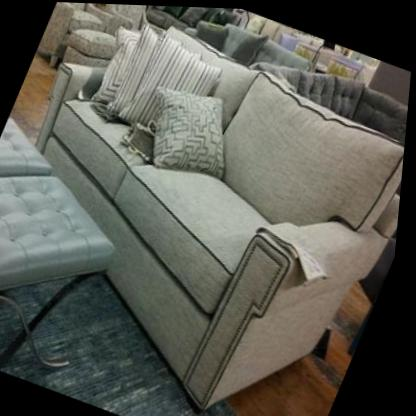Sofa: (0, 0, 416, 416), (225, 43, 413, 202), (33, 1, 133, 81), (93, 3, 176, 49)
